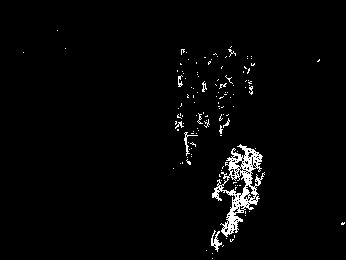person: (171, 87, 207, 167), (215, 71, 235, 136)
